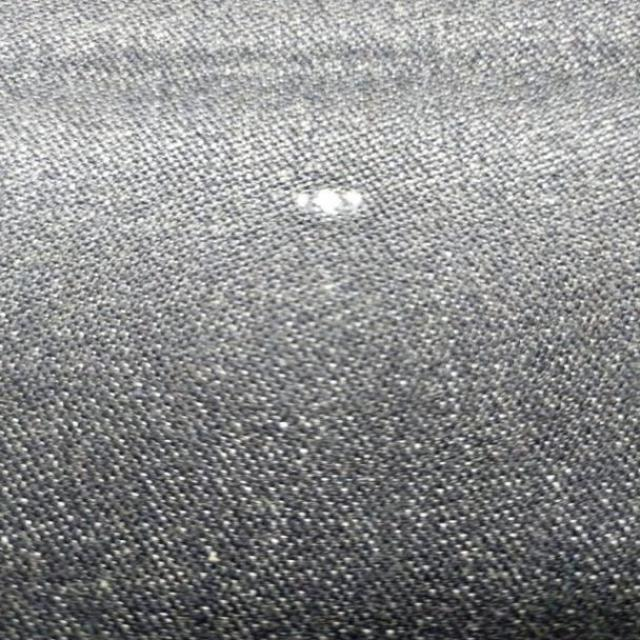Knot: (295, 188, 364, 215)
